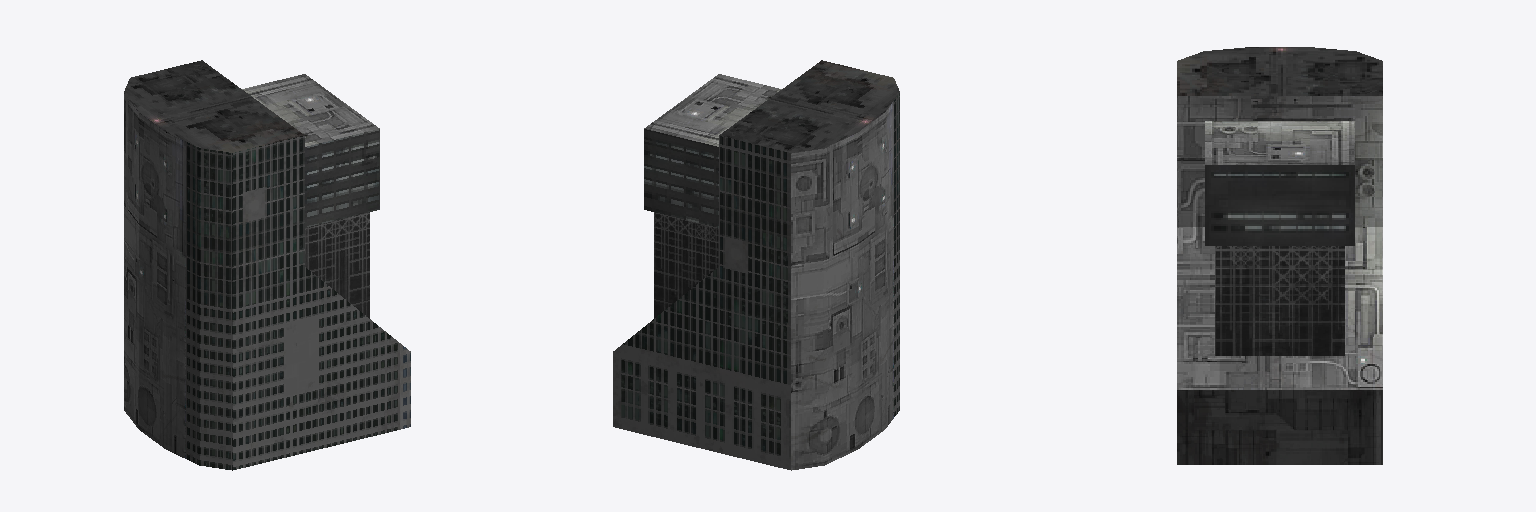
The picture shows the model from 3 angles: view 1: azimuth 30°, elevation 25°; view 2: azimuth 150°, elevation 25°; view 3: azimuth 270°, elevation 25°; orthographic projection.
Parts seen in each view (by area): view 1: building_3; view 2: building_3; view 3: building_3.
Part boxes in pixels (x1,y1,x2,y2): building_3: (124, 60, 410, 470); building_3: (613, 60, 899, 470); building_3: (1177, 47, 1382, 464).
Size of the model in its own units: 49.87 by 73.3 by 42.99.
Materials: 1 (1 with a texture image).